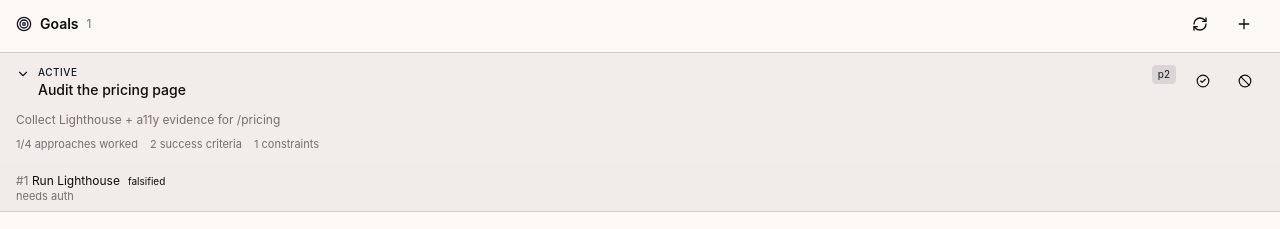
Test: GoalsPanel › collapses the selected goal row when clicked again
Check: the text "Run Lighthouse" is shown, box [32,172,120,188]
Click the button with test id "goal-row-toggle" at (58, 72), box [16,65,1144,100]
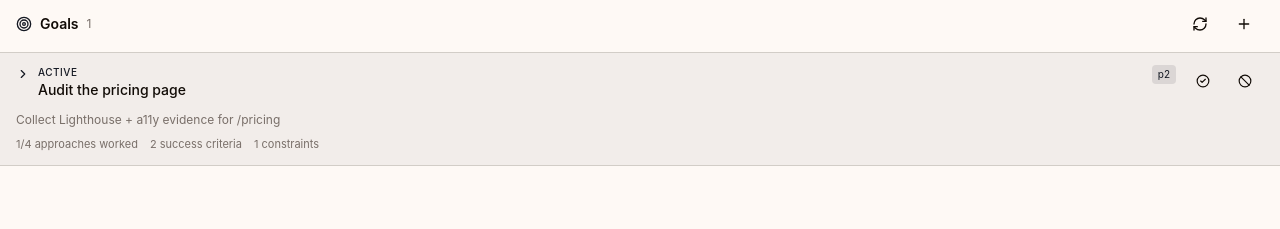
Check: the text "Run Lighthouse" is gone
